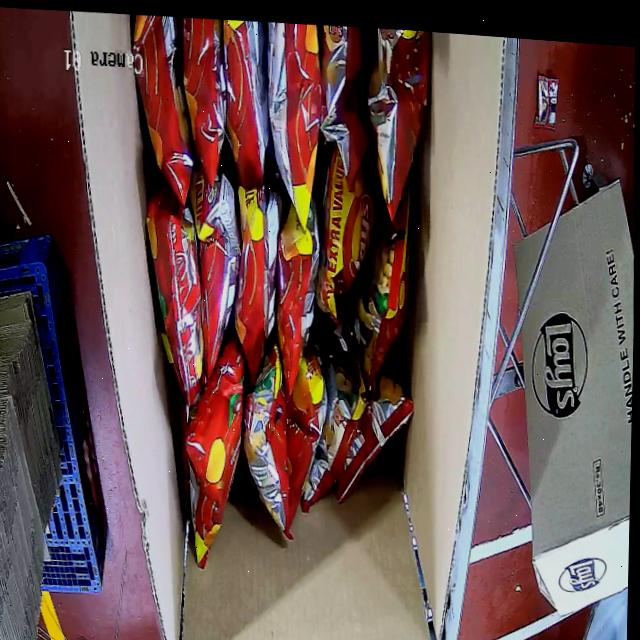MASALA: (118, 10, 439, 586)
